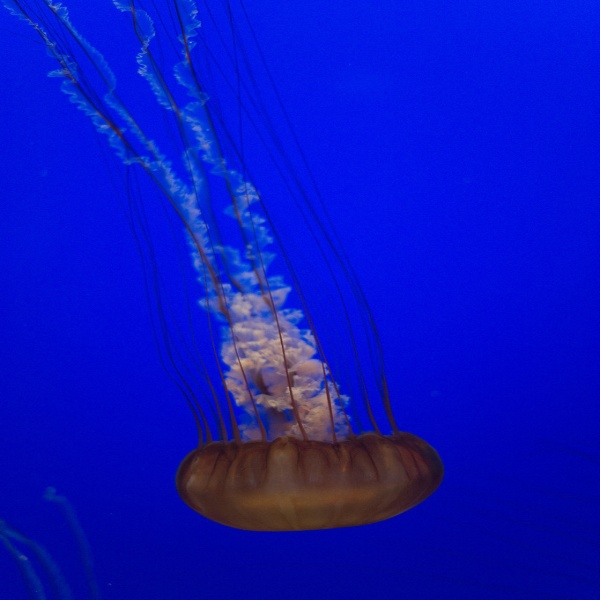Jellyfish: (26, 13, 430, 538)
